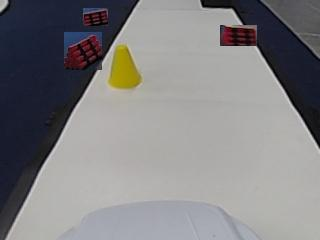cone: (107, 46, 141, 88)
